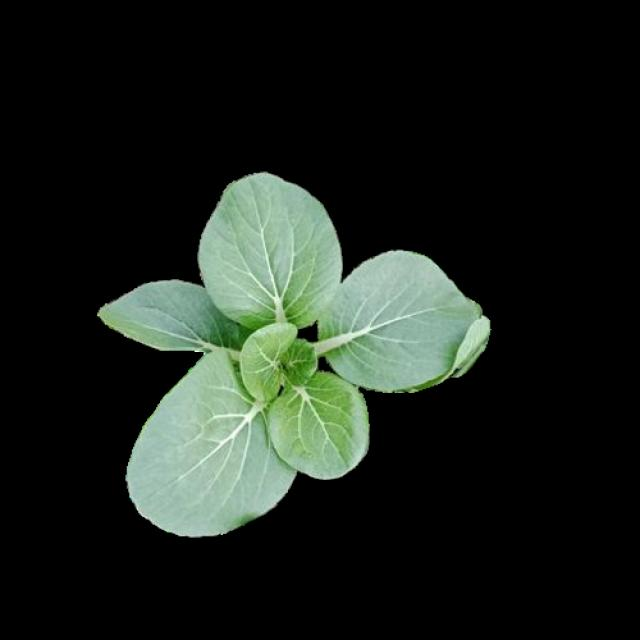healthy: (97, 172, 479, 532)
not-mature: (100, 174, 481, 535)
